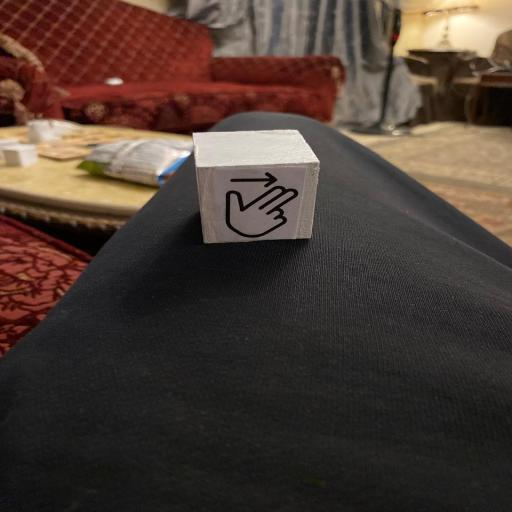RightSwipe: (191, 128, 325, 244)
